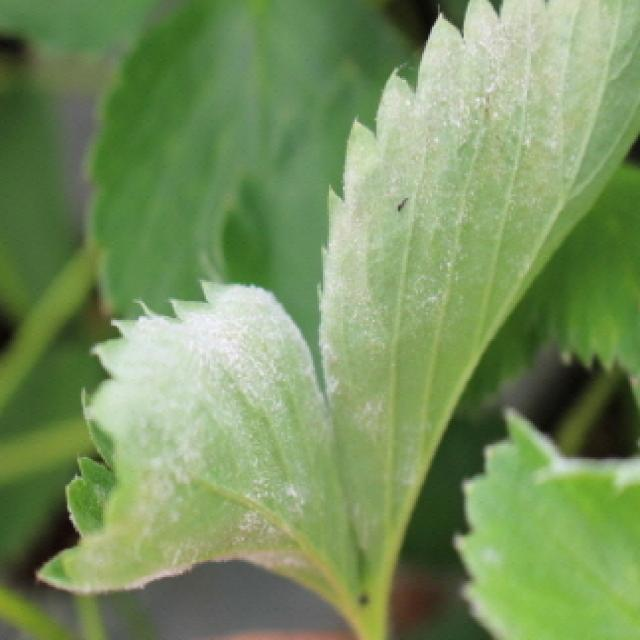Powdery Mildew Leaf: (316, 0, 640, 604), (36, 280, 361, 617)
